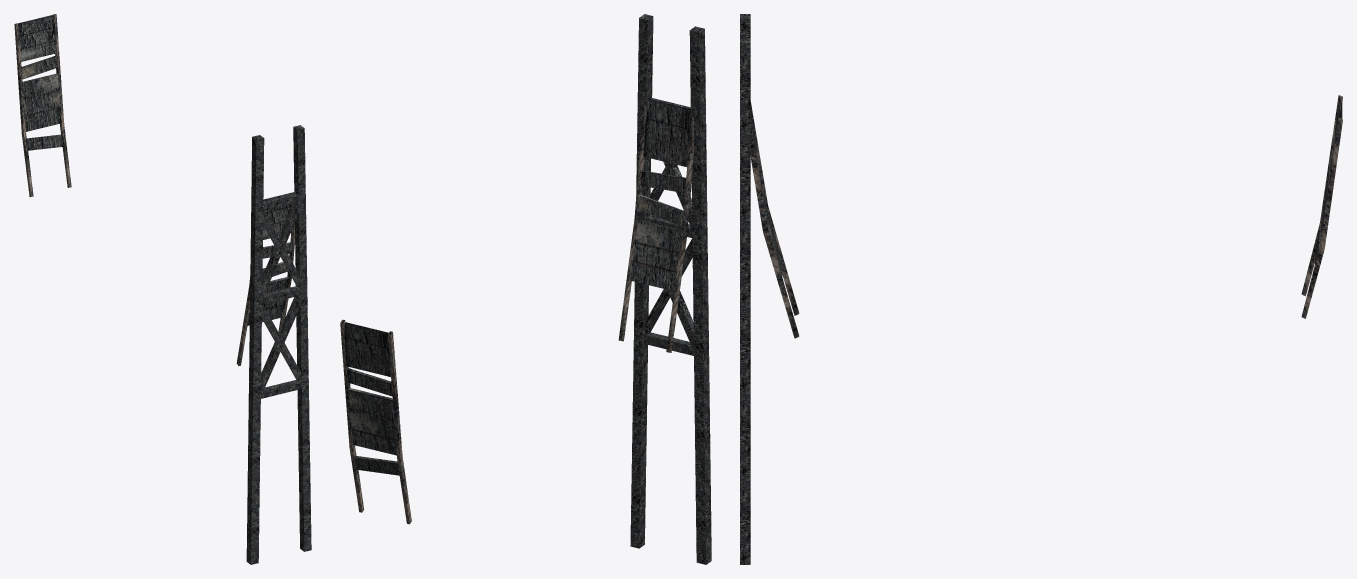
The model's file is RBRG02X.glb.
3 views of the same model, side by side, from view 1: azimuth 30°, elevation 25°; view 2: azimuth 150°, elevation 25°; view 3: azimuth 270°, elevation 25° (orthographic). The views are drawn at different scales.
Visible parts, largest first — view 1: _RBRG02X; view 2: _RBRG02X; view 3: _RBRG02X.
Boxes of the visible parts, x1,y1,x2,y2 form: _RBRG02X: [14, 14, 311, 564]; _RBRG02X: [340, 14, 711, 564]; _RBRG02X: [740, 14, 1342, 564].
Size of the model in its own units: 5.75 by 38.43 by 40.53.
1 material, 1 textured.
